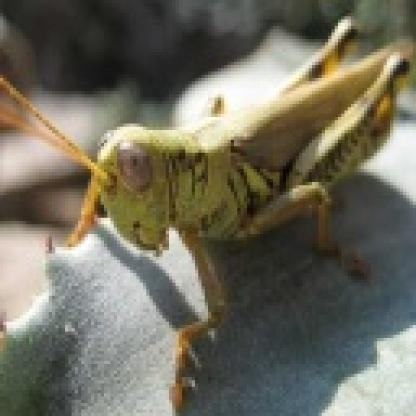grasshopper: (0, 21, 416, 384)
